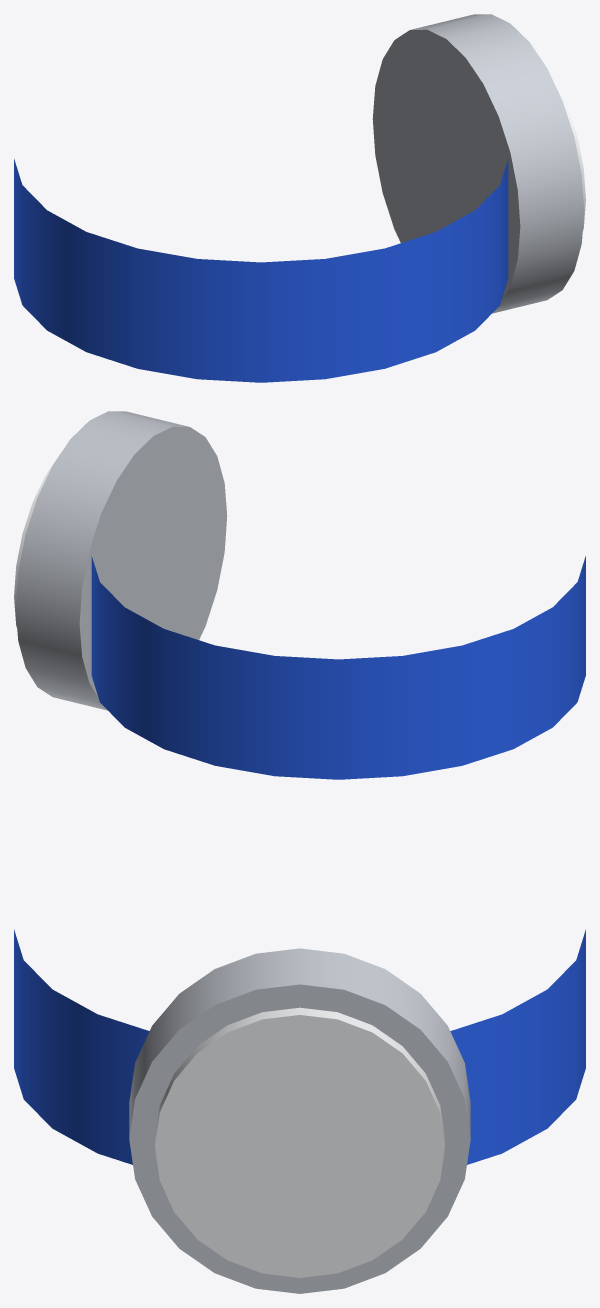
The model's file is watch_classic_male.glb.
The picture shows the model from 3 angles, top to bottom: view 1: azimuth 30°, elevation 25°; view 2: azimuth 150°, elevation 25°; view 3: azimuth 270°, elevation 25°; orthographic projection. The views are drawn at different scales.
Parts seen in each view (by area): view 1: band, case, screen; view 2: band, case, screen; view 3: screen, band, case.
Part boxes in pixels (x1=…): band: x1=14, y1=159, x2=508, y2=382; case: x1=372, y1=14, x2=584, y2=313; screen: x1=539, y1=56, x2=585, y2=231; band: x1=91, y1=556, x2=585, y2=779; case: x1=15, y1=411, x2=227, y2=710; screen: x1=14, y1=453, x2=60, y2=628; screen: x1=155, y1=1007, x2=444, y2=1277; band: x1=14, y1=929, x2=585, y2=1164; case: x1=129, y1=948, x2=470, y2=1293.
Size of the model in its own units: 0.0745 by 0.04 by 0.067.
